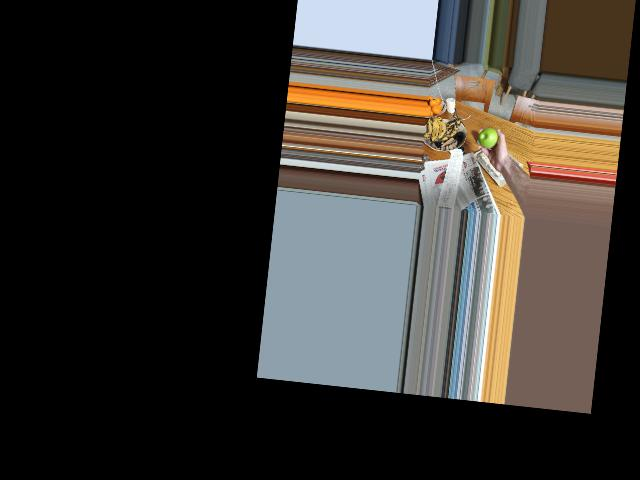apple: (478, 126, 498, 150)
